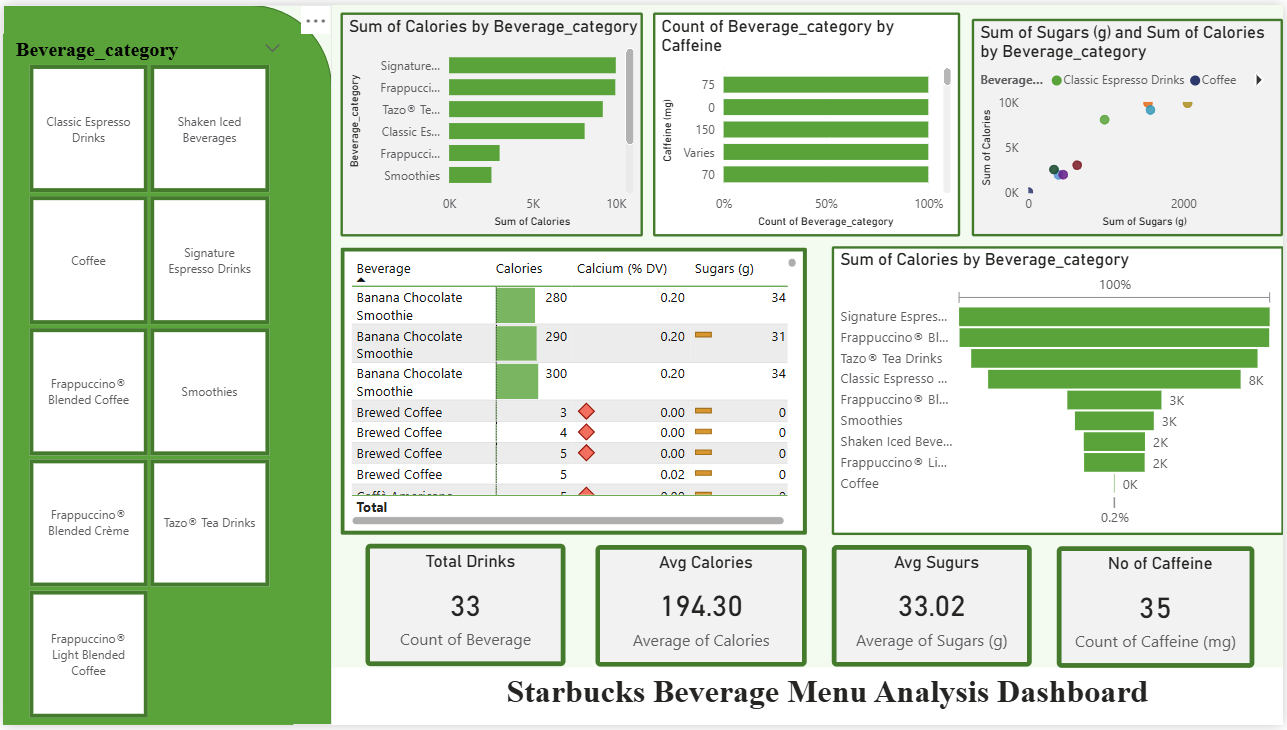

The page's visual inventory and layout, read from the dashboard file:
{"tool":"powerbi","page":{"name":"Page 1","canvas":[1280,720],"ordinal":0},"visuals":[{"type":"textbox","box":[328.6,661.9,951.2,58.3],"z":0},{"type":"card","title":"Total Drinks","fields":{"Values":["Count(starbucks_drinkMenu_expanded cs.Beverage)"]},"box":[337.8,539.3,200.3,121.9],"z":1000},{"type":"card","title":"Avg Calories","fields":{"Values":["Avg(starbucks_drinkMenu_expanded cs.Calories)"]},"box":[592.5,540,211.2,121.2],"z":2000},{"type":"card","title":"Avg Sugurs","fields":{"Values":["Avg(starbucks_drinkMenu_expanded cs.Sugars (g))"]},"box":[828.8,540,200,121.2],"z":3000},{"type":"card","title":"No of Caffeine","fields":{"Values":["Count(starbucks_drinkMenu_expanded cs.Caffeine (mg))"]},"box":[1081,541.7,197.9,120.6],"z":4000},{"type":"clusteredBarChart","fields":{"Category":["starbucks_drinkMenu_expanded cs.Beverage_category"],"Y":["Sum(starbucks_drinkMenu_expanded cs.Calories)"]},"box":[337.5,7.5,302.5,223.8],"z":5000},{"type":"scatterChart","fields":{"X":["Sum(starbucks_drinkMenu_expanded cs.Sugars (g))"],"Y":["Sum(starbucks_drinkMenu_expanded cs.Calories)"],"Series":["starbucks_drinkMenu_expanded cs.Beverage_category"]},"box":[968.8,13.8,311.2,217.5],"z":6000},{"type":"funnel","fields":{"Category":["starbucks_drinkMenu_expanded cs.Beverage_category"],"Y":["Sum(starbucks_drinkMenu_expanded cs.Calories)"]},"box":[828.2,240.8,452.1,288.7],"z":7000},{"type":"shape","box":[0,0,328.8,720],"z":8000},{"type":"slicer","fields":{"Values":["starbucks_drinkMenu_expanded cs.Beverage_category"]},"box":[0,28.8,290,691.2],"z":9000},{"type":"hundredPercentStackedBarChart","title":"Count of Beverage_category by Caffeine","fields":{"Y":["CountNonNull(starbucks_drinkMenu_expanded cs.Beverage_category)"],"Category":["starbucks_drinkMenu_expanded cs.Caffeine (mg)"]},"box":[650,7.5,307.5,223.8],"z":10000},{"type":"tableEx","fields":{"Values":["starbucks_drinkMenu_expanded cs.Beverage","starbucks_drinkMenu_expanded cs.Calories","starbucks_drinkMenu_expanded cs.Calcium (% DV)","starbucks_drinkMenu_expanded cs.Sugars (g)"]},"box":[337.5,242.5,466.2,287.5],"z":11000}]}

Visuals, with their boxes in screenshot pixels (x1, y1, x2, y2), scaled from the page's 1280x720 canvas onto the 1287x730 screenshot:
textbox: <box>330,671,1286,729</box>
"Total Drinks" card: <box>340,547,541,670</box>
"Avg Calories" card: <box>596,548,808,670</box>
"Avg Sugurs" card: <box>833,548,1034,670</box>
"No of Caffeine" card: <box>1087,549,1286,671</box>
clusteredBarChart - starbucks_drinkMenu_expanded cs.Beverage_category x Sum(starbucks_drinkMenu_expanded cs.Calories): <box>339,8,644,235</box>
scatterChart - Sum(starbucks_drinkMenu_expanded cs.Sugars (g)) x Sum(starbucks_drinkMenu_expanded cs.Calories): <box>974,14,1286,235</box>
funnel - starbucks_drinkMenu_expanded cs.Beverage_category x Sum(starbucks_drinkMenu_expanded cs.Calories): <box>833,244,1286,537</box>
shape: <box>0,0,331,729</box>
slicer - starbucks_drinkMenu_expanded cs.Beverage_category: <box>0,29,292,729</box>
"Count of Beverage_category by Caffeine" hundredPercentStackedBarChart: <box>654,8,963,235</box>
tableEx - starbucks_drinkMenu_expanded cs.Beverage x starbucks_drinkMenu_expanded cs.Calories: <box>339,246,808,537</box>
